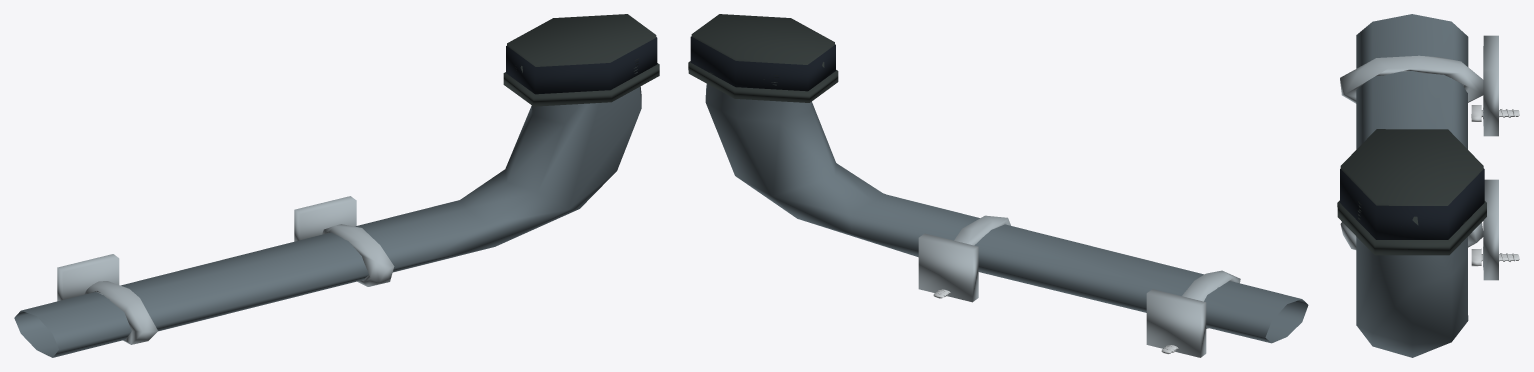
File: conduit_conduit-gland.low.glb
3 views of the same model, side by side, from view 1: azimuth 30°, elevation 25°; view 2: azimuth 150°, elevation 25°; view 3: azimuth 270°, elevation 25° (orthographic). The views are drawn at different scales.
Visible parts, largest first — view 1: part:body, detail:cable-management-construction · Detail moulded engine, part:mounting · Original 2a8198d3, part:mounting.001; view 2: part:body, part:mounting · Original 2a8198d3, detail:cable-management-construction · Detail moulded engine, part:mounting.001; view 3: part:body, detail:cable-management-construction · Detail moulded engine, part:mounting · Original 2a8198d3, part:mounting.001, detail:cable-management-fixing · Detail zinc plated fixing.
Boxes of the visible parts, left/top/right/bottom form: part:body: left=14, top=86, right=641, bottom=357; detail:cable-management-construction · Detail moulded engine: left=503, top=14, right=659, bottom=106; part:mounting · Original 2a8198d3: left=57, top=196, right=394, bottom=344; part:mounting.001: left=506, top=37, right=657, bottom=94; part:body: left=705, top=84, right=1308, bottom=343; part:mounting · Original 2a8198d3: left=918, top=215, right=1240, bottom=357; detail:cable-management-construction · Detail moulded engine: left=688, top=14, right=838, bottom=102; part:mounting.001: left=690, top=36, right=835, bottom=91; part:body: left=1356, top=14, right=1468, bottom=357; detail:cable-management-construction · Detail moulded engine: left=1337, top=129, right=1486, bottom=255; part:mounting · Original 2a8198d3: left=1340, top=35, right=1498, bottom=280; part:mounting.001: left=1340, top=168, right=1484, bottom=239; detail:cable-management-fixing · Detail zinc plated fixing: left=1471, top=105, right=1519, bottom=266.
Size of the model in its own units: 1.09 by 0.3236 by 0.2279.
